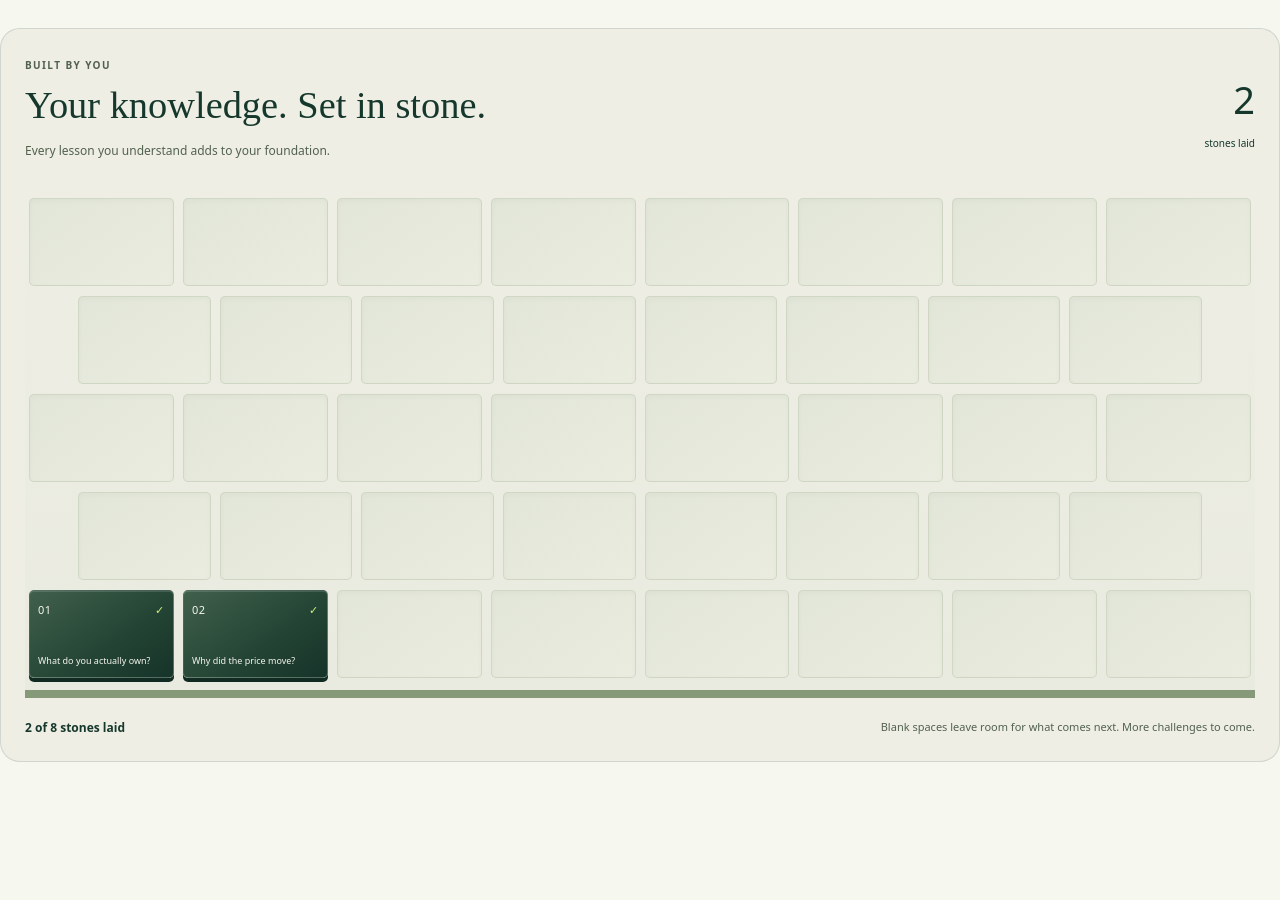
shows real laid dates or an honest missing-date label, supports focus/Escape and never resets on Monday
The image size is (1280, 900).
Later steps or results of the test are not shown.
Focus the button "01 ✓ What do you actually own?": (101, 634) x1=29 y1=590 x2=174 y2=678
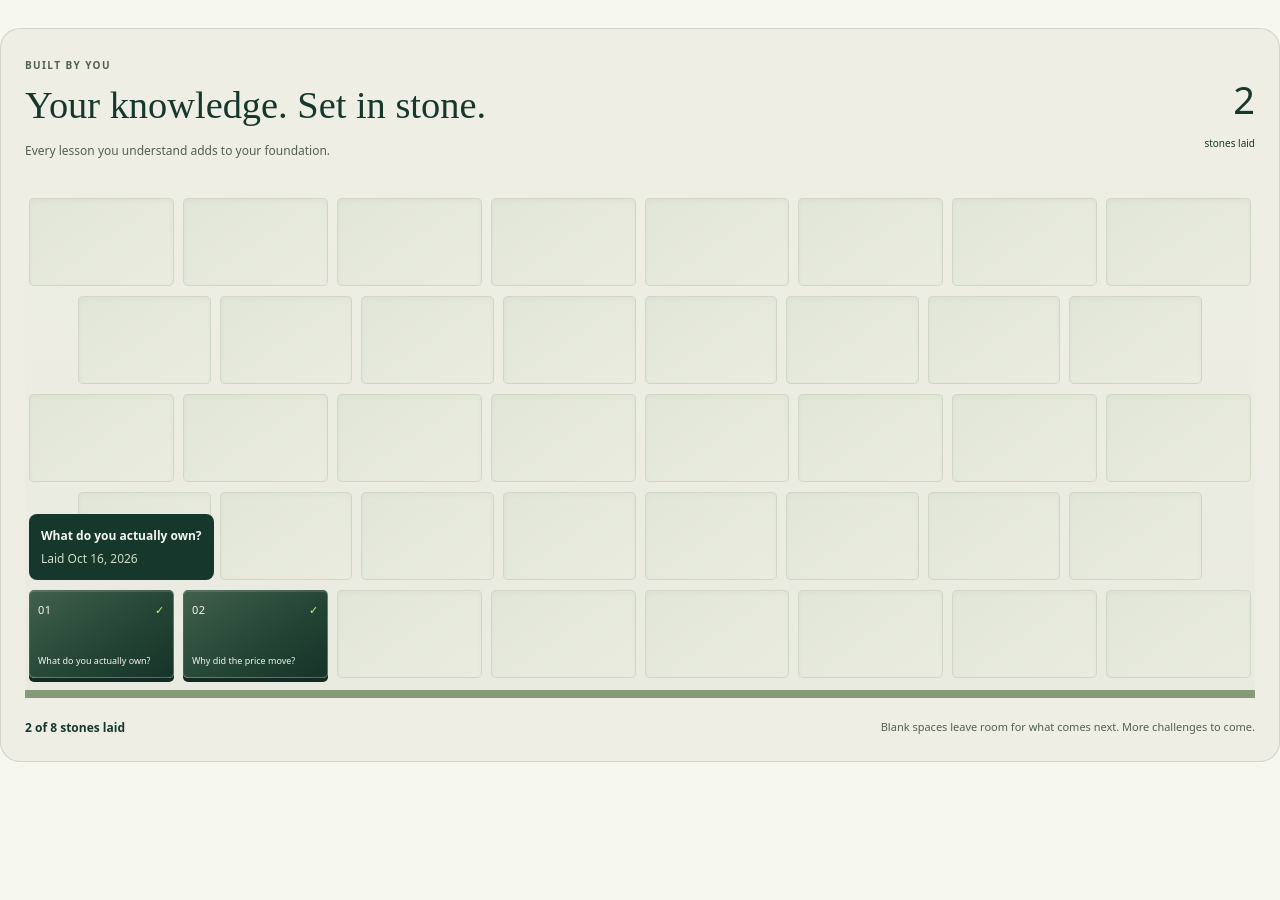
Expected: the tooltip shows "Laid Oct 16, 2026", x1=41 y1=550 x2=138 y2=567
Press Escape in the button "01 ✓ What do you actually own?", box x1=29 y1=590 x2=174 y2=678
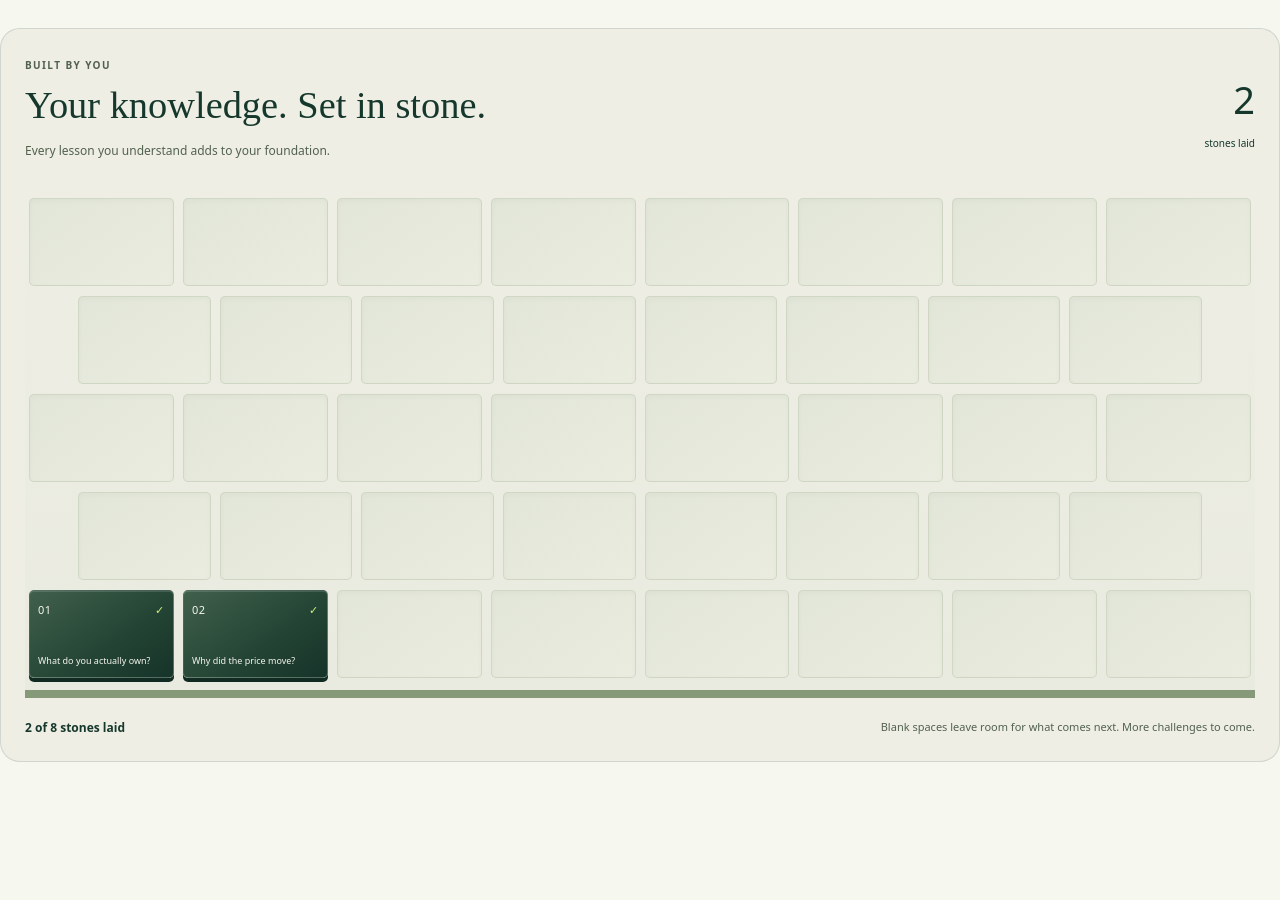
Expected: the tooltip "What do you actually own? Laid Oct 16, 2026" is gone
Focus the button "02 ✓ Why did the price move?": (255, 634) x1=183 y1=590 x2=328 y2=678
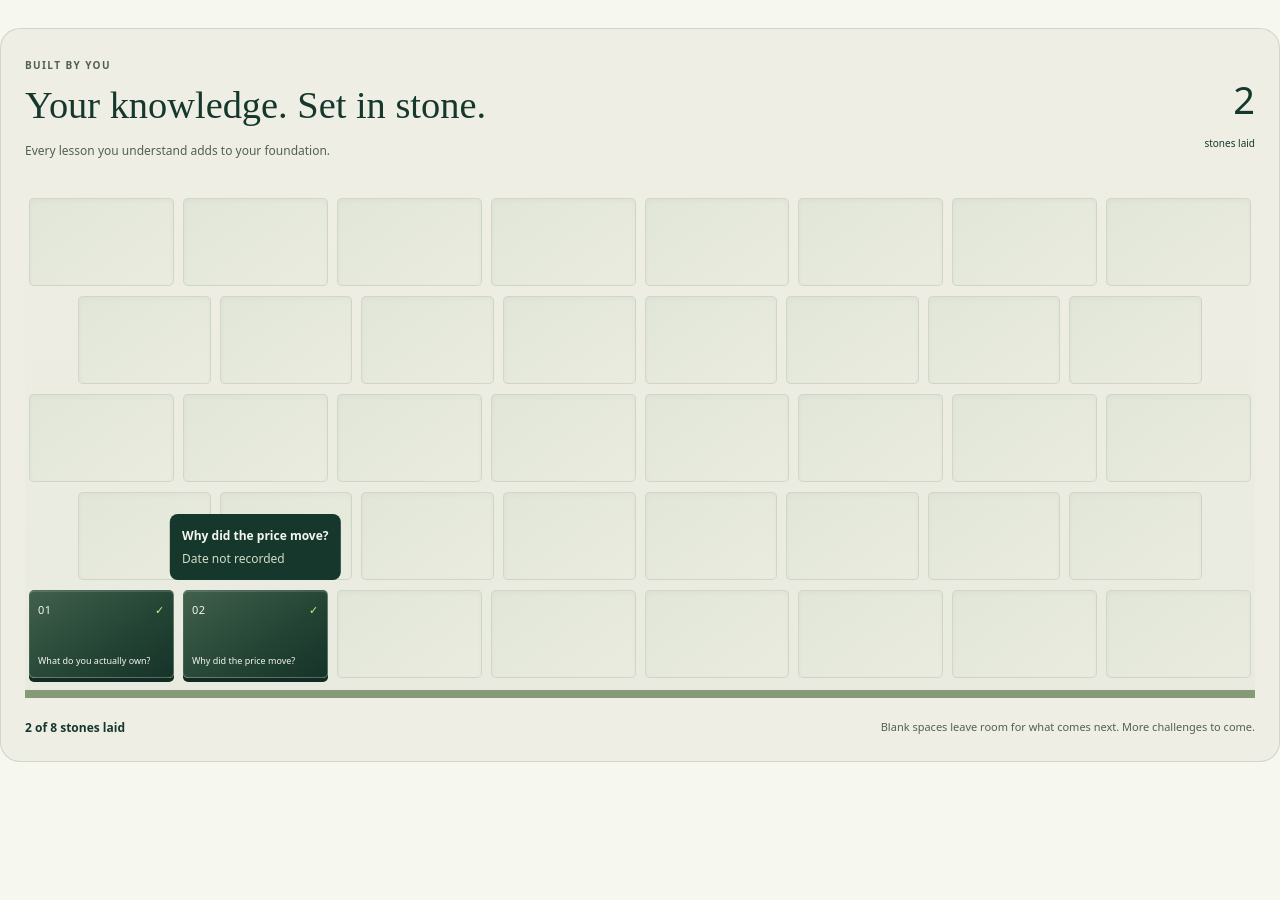
Expected: the tooltip shows "Date not recorded", x1=182 y1=550 x2=285 y2=567
